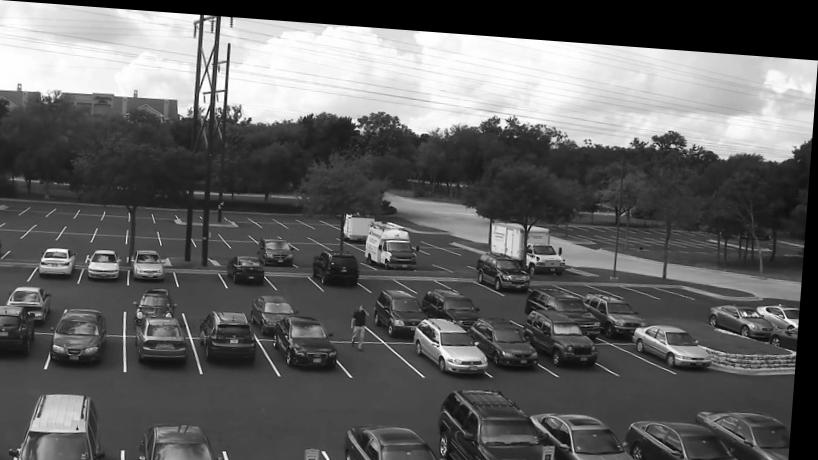empty: (227, 422, 338, 460), (341, 333, 431, 372), (600, 331, 676, 367), (321, 303, 371, 328), (178, 265, 234, 287), (401, 268, 455, 288), (76, 290, 126, 311), (627, 276, 695, 290), (193, 293, 236, 315), (447, 270, 504, 286), (273, 269, 323, 287), (491, 294, 533, 314), (0, 261, 42, 280), (366, 266, 411, 282), (601, 277, 657, 289), (414, 234, 460, 248), (12, 242, 50, 258), (94, 232, 132, 247), (62, 230, 99, 244), (562, 274, 608, 285), (28, 228, 65, 240), (131, 233, 164, 246), (68, 220, 101, 233), (228, 209, 261, 222), (196, 236, 238, 246), (160, 235, 201, 245), (0, 203, 34, 215), (189, 225, 225, 236), (298, 248, 326, 262), (296, 238, 335, 248), (131, 209, 160, 222), (221, 224, 255, 235), (0, 227, 33, 238), (154, 209, 183, 221), (258, 213, 289, 224), (59, 239, 88, 250), (6, 217, 41, 226), (107, 207, 133, 219), (39, 219, 70, 229), (283, 225, 317, 234), (312, 226, 346, 235), (328, 237, 366, 245), (30, 205, 55, 217), (219, 248, 242, 261), (250, 225, 283, 234), (100, 223, 132, 232), (162, 224, 194, 233), (130, 225, 164, 233), (229, 236, 262, 244), (83, 207, 106, 218), (308, 215, 339, 223), (55, 208, 80, 217), (285, 215, 313, 223)
occupied: (435, 381, 568, 460), (631, 408, 757, 460), (534, 406, 652, 460), (20, 392, 112, 460), (703, 396, 796, 460), (409, 309, 494, 369), (337, 416, 451, 460), (527, 301, 602, 358), (471, 308, 548, 362), (274, 310, 345, 362), (200, 305, 267, 360), (637, 314, 717, 357), (58, 305, 113, 362), (149, 418, 220, 460), (141, 311, 195, 360), (420, 281, 485, 321), (0, 302, 46, 358), (590, 284, 647, 328), (368, 216, 421, 263), (482, 244, 538, 288), (714, 293, 780, 330), (378, 284, 431, 330), (531, 279, 600, 310), (315, 247, 362, 290), (256, 291, 299, 332), (11, 286, 56, 317), (43, 246, 80, 278), (231, 251, 268, 282), (263, 233, 300, 262), (137, 247, 169, 277), (92, 248, 124, 277), (143, 286, 176, 314), (773, 313, 803, 340)
